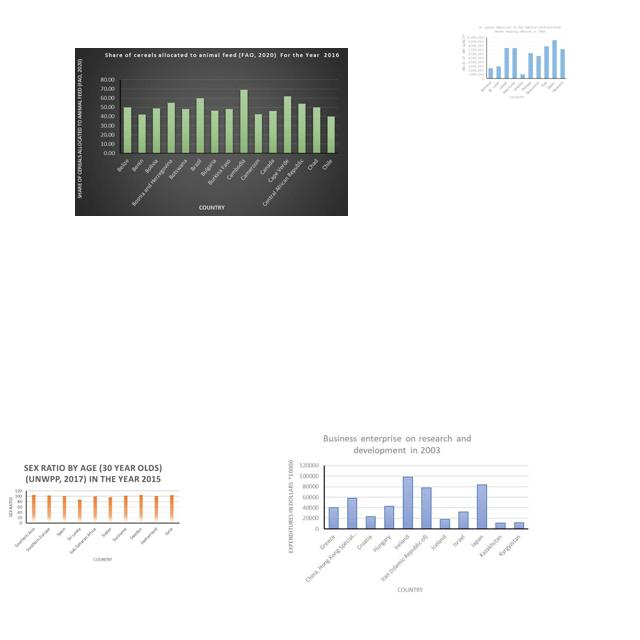Graph: (75, 48, 348, 216), (284, 430, 533, 597), (5, 461, 183, 565), (459, 23, 569, 101)
